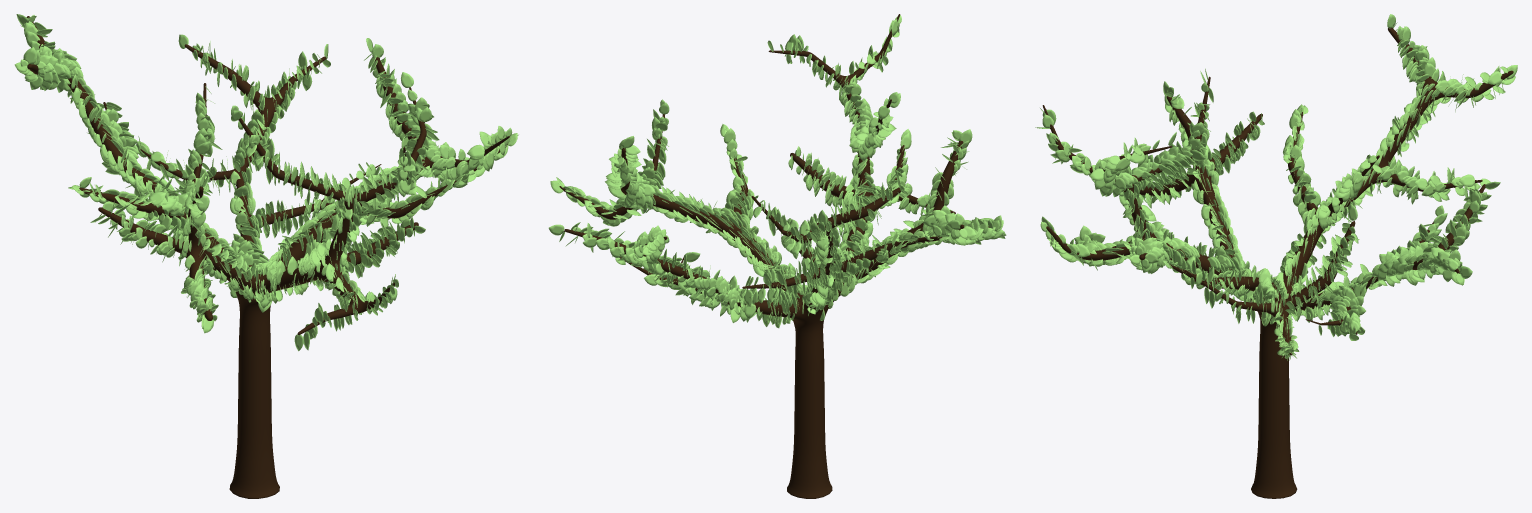
File: Arbre2.fbx
The picture shows the model from 3 angles, left to right: view 1: azimuth 30°, elevation 25°; view 2: azimuth 150°, elevation 25°; view 3: azimuth 270°, elevation 25°; orthographic projection. The views are drawn at different scales.
Visible parts, largest first — view 1: Arbre.001; view 2: Arbre.001; view 3: Arbre.001.
Part boxes in pixels (x1,y1,x2,y2): Arbre.001: (26, 16, 509, 498); Arbre.001: (559, 14, 989, 498); Arbre.001: (1042, 28, 1513, 498).
Bounding box in the file's own units: 2977 × 2754 × 2982.
